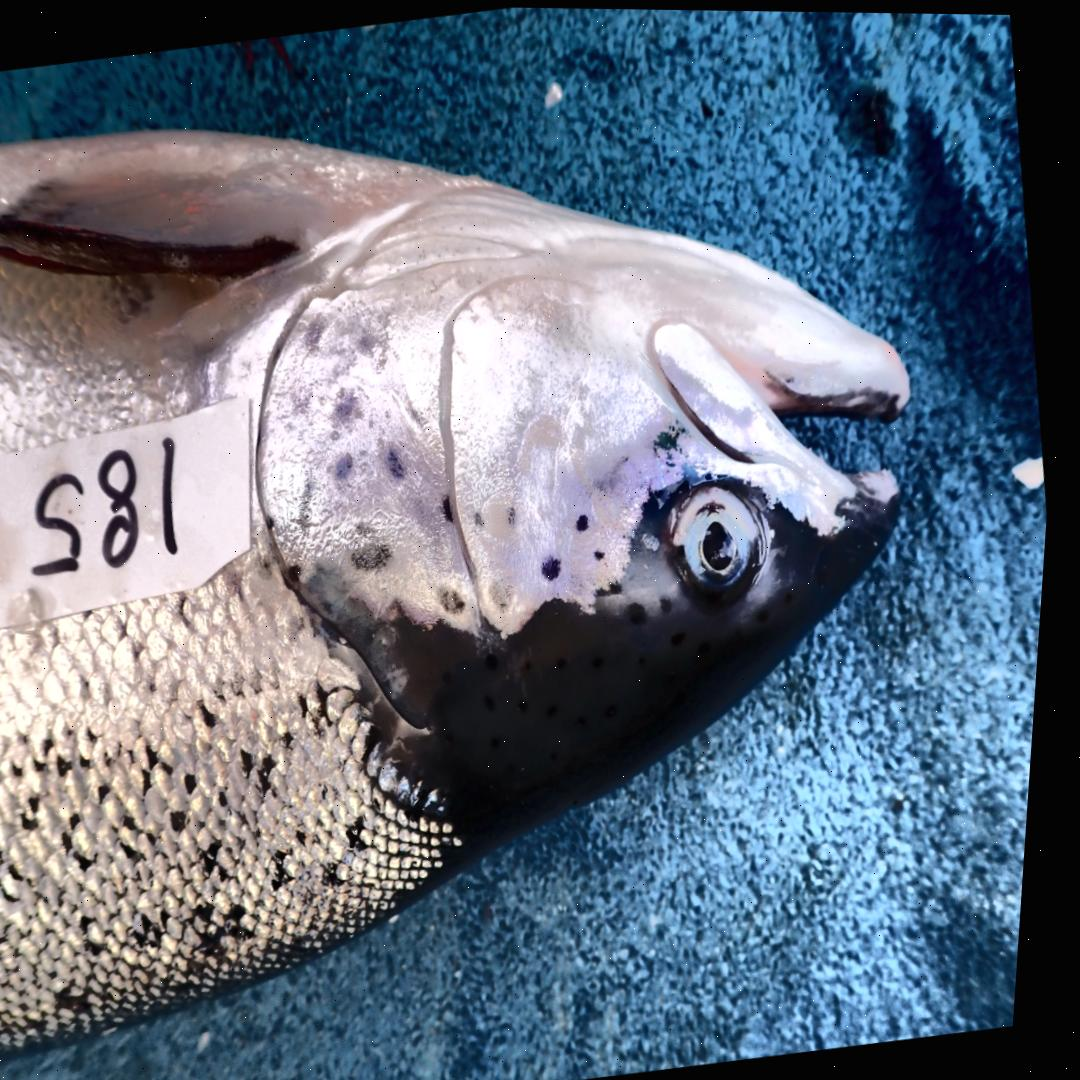spot: (358, 541, 397, 569), (495, 570, 520, 607), (305, 478, 321, 532), (337, 392, 362, 423), (390, 446, 411, 479), (309, 313, 327, 347), (448, 587, 472, 612), (548, 554, 568, 579), (340, 454, 359, 478), (361, 326, 377, 351), (448, 493, 460, 521), (295, 562, 307, 582), (581, 512, 594, 530), (513, 505, 522, 525), (479, 511, 490, 525), (601, 547, 612, 557), (272, 515, 280, 528)
